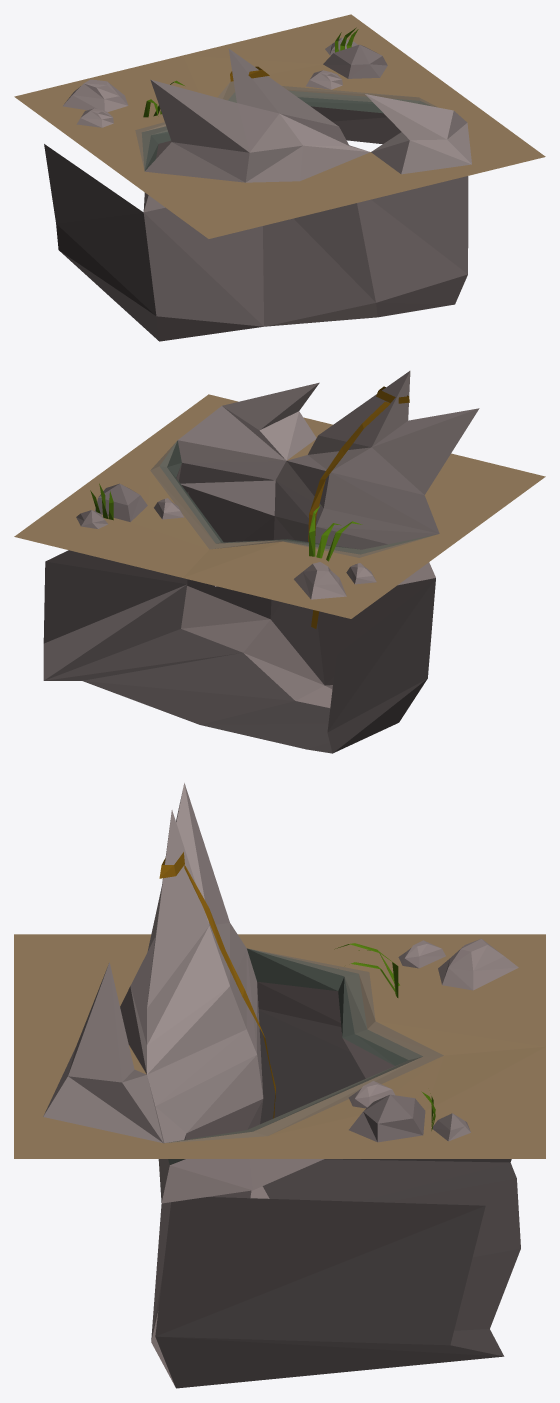
File: obj_rocks_5_0.obj
3 views of the same model, one above another, from view 1: azimuth 30°, elevation 25°; view 2: azimuth 150°, elevation 25°; view 3: azimuth 270°, elevation 25° (orthographic). The views are drawn at different scales.
Size of the model in its own units: 2.03 by 1.8 by 2.
